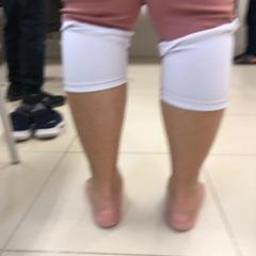Back View -Both Feet-: (70, 148, 221, 242)
